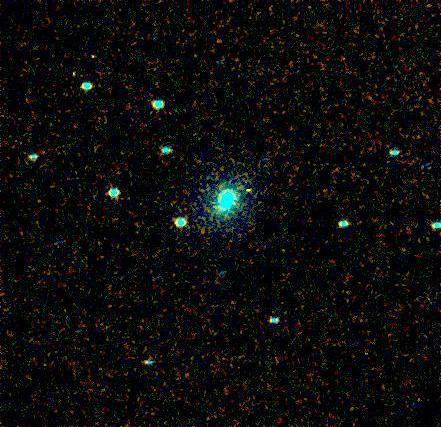star: (233, 176, 263, 206)
